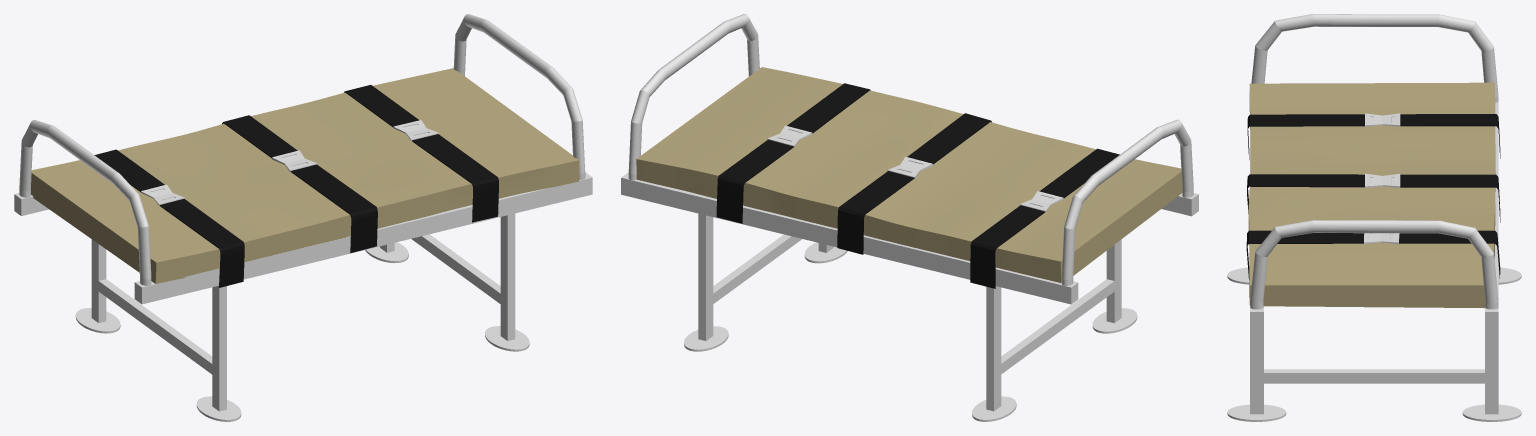
File: CamaPsiquiatrico.fbx
The picture shows the model from 3 angles, left to right: view 1: azimuth 30°, elevation 25°; view 2: azimuth 150°, elevation 25°; view 3: azimuth 270°, elevation 25°; orthographic projection. The views are drawn at different scales.
Visible parts, largest first — view 1: Cama; view 2: Cama; view 3: Cama.
Part boxes in pixels (bbox=[...]): Cama: bbox=[14, 14, 592, 421]; Cama: bbox=[621, 14, 1198, 421]; Cama: bbox=[1227, 14, 1521, 421].
Size of the model in its own units: 2.04 by 1.01 by 1.19.
